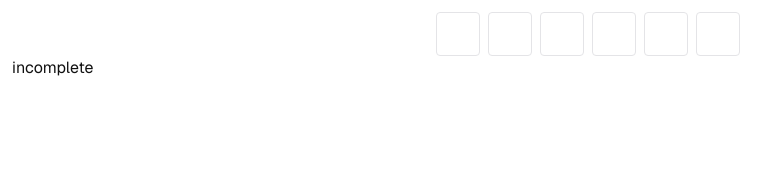
Test: a code with a gap in it › is not offered as a code when a middle box is cleared
Type "123456" into the field named "Digit 1".
click(458, 34); type("123456")  # box left=436, top=12, right=480, bottom=56
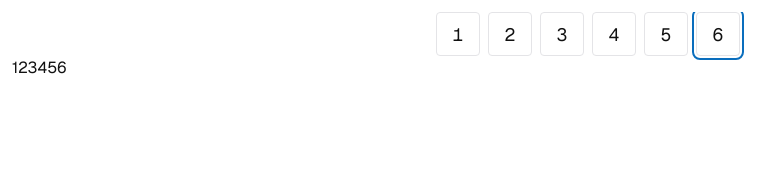
expect the text "123456" is shown: met, box left=12, top=57, right=66, bottom=78
Click the field named "Digit 3".
click(562, 34)  # box left=540, top=12, right=584, bottom=56
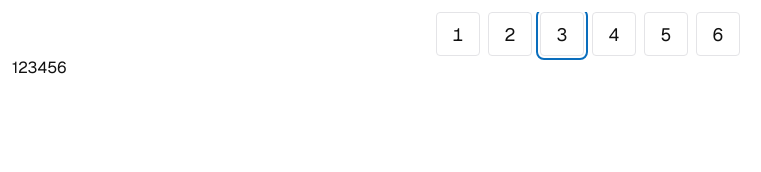
Press Backspace
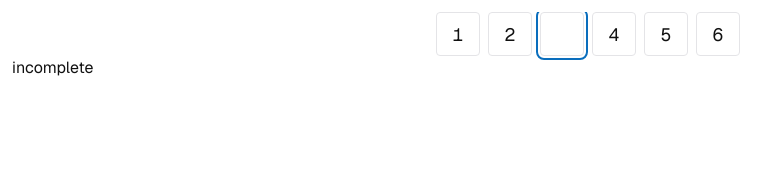
expect the text "incomplete" is shown: met, box left=12, top=57, right=94, bottom=78
